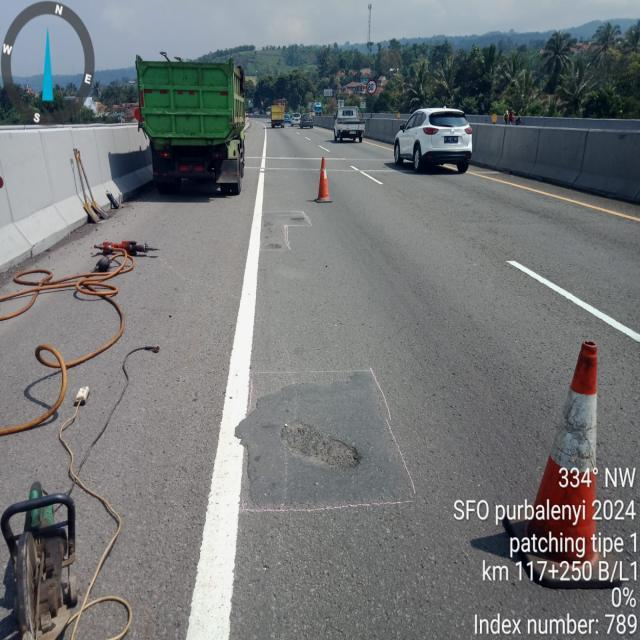Buraco: (276, 418, 364, 472), (260, 241, 284, 251), (289, 216, 307, 222)
